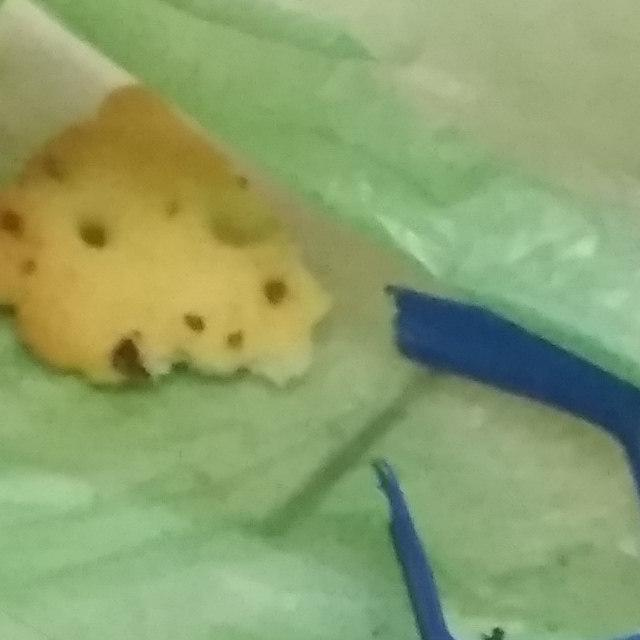food_waste: (0, 14, 407, 462)
plastic: (290, 240, 640, 640)
